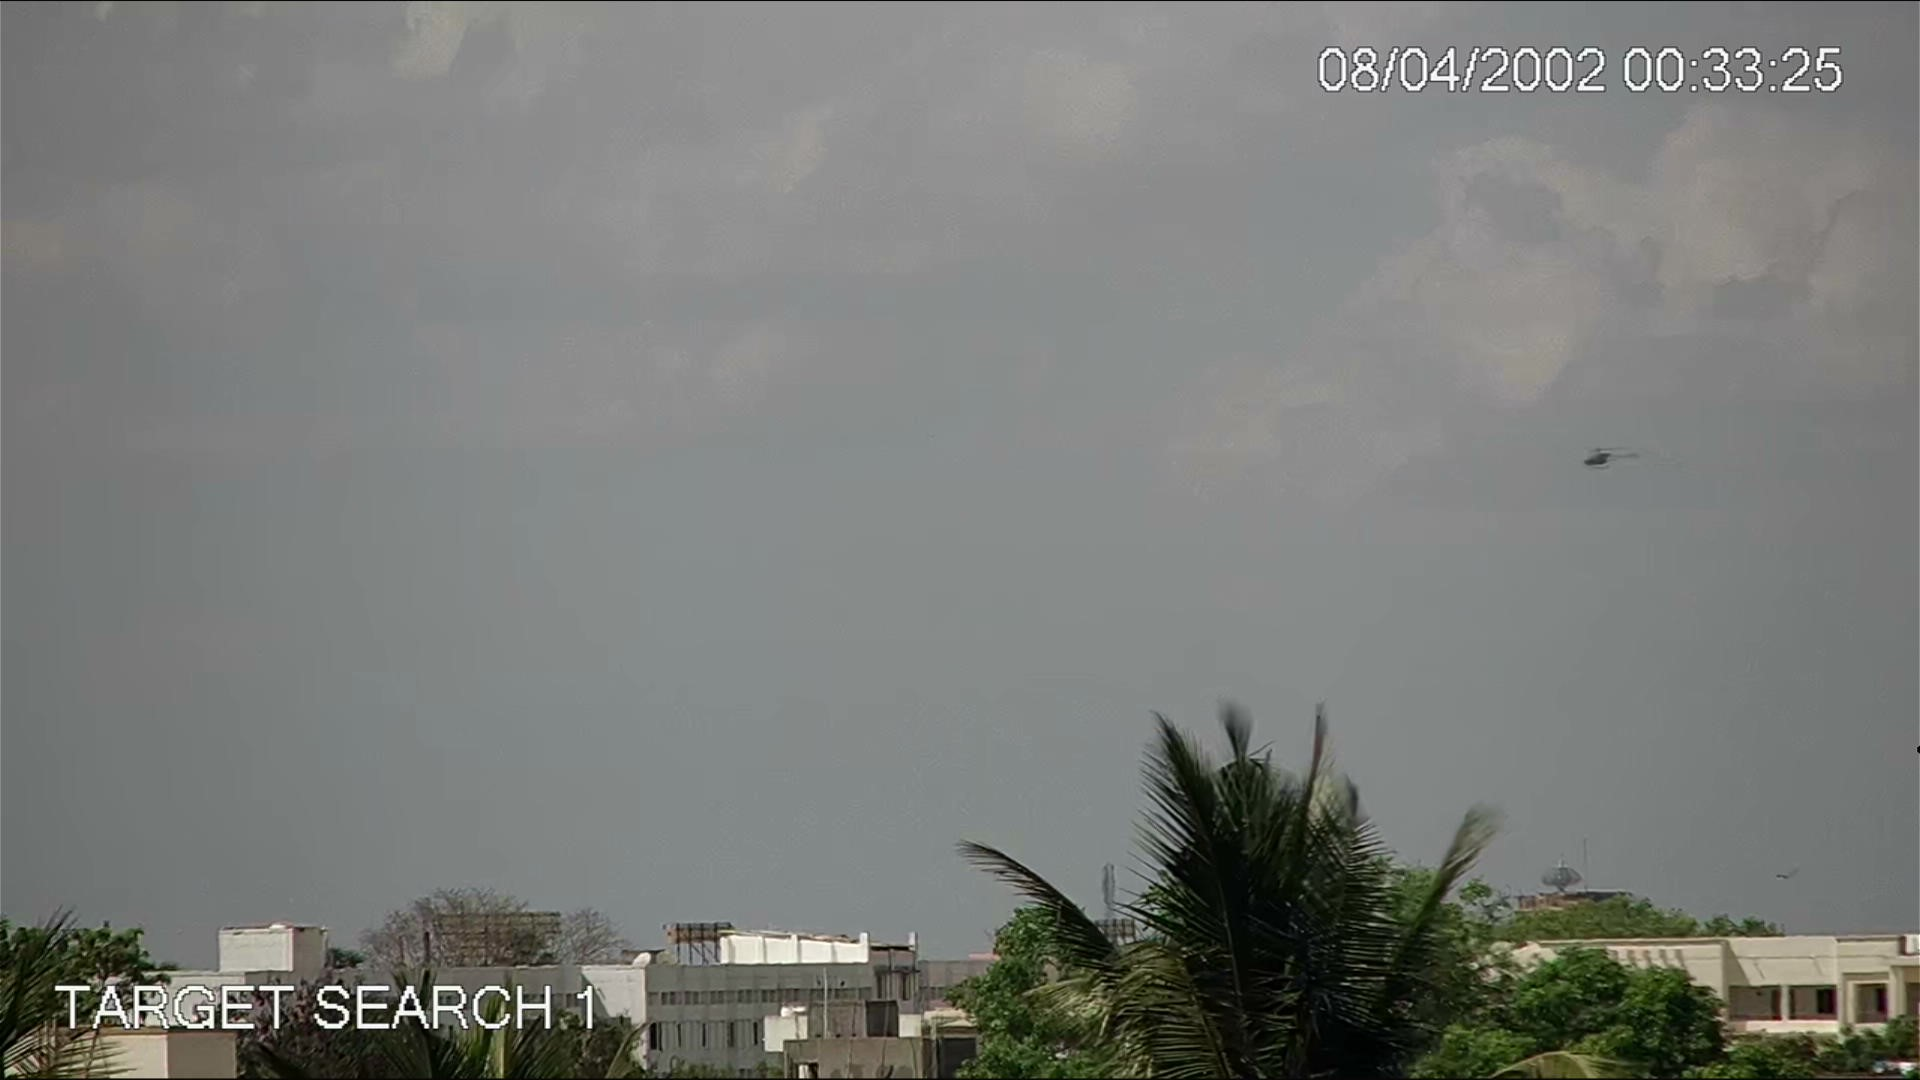SU_30: (1582, 444, 1643, 472)
